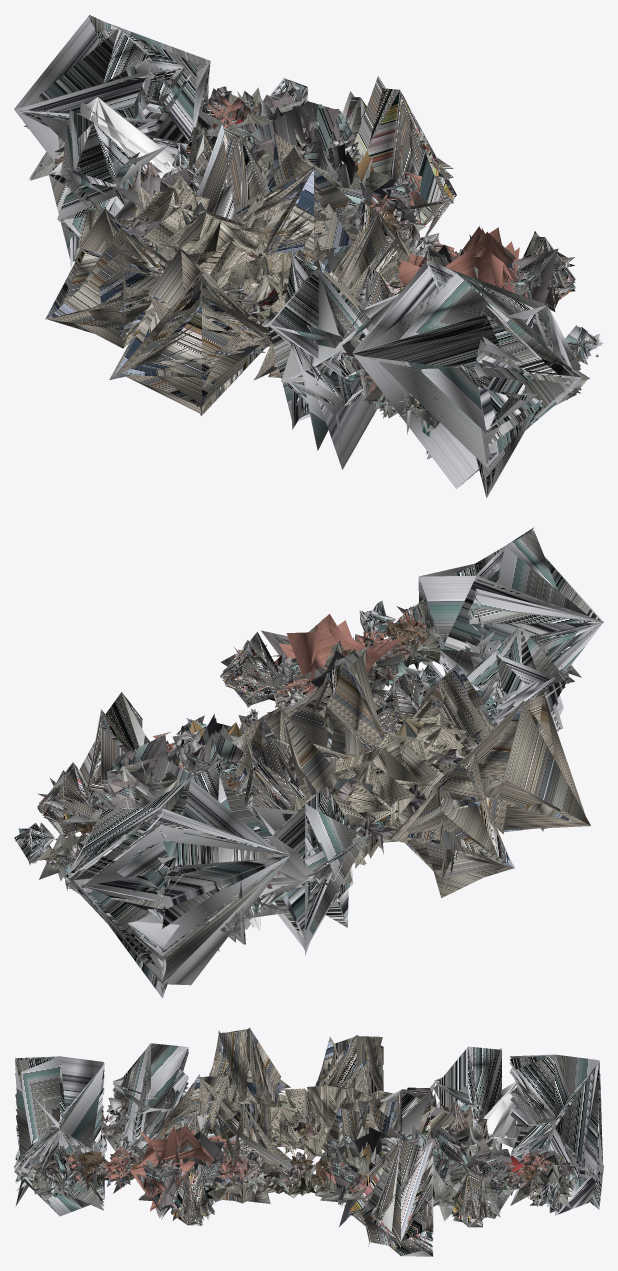
File: city-v2.glb
3 views of the same model, one above another, from view 1: azimuth 30°, elevation 25°; view 2: azimuth 150°, elevation 25°; view 3: azimuth 270°, elevation 25° (orthographic). The views are drawn at different scales.
Visible parts, largest first — view 1: City; view 2: City; view 3: City.
Part boxes in pixels (x1,y1,x2,y2): City: (14, 14, 603, 497); City: (14, 527, 603, 998); City: (14, 1027, 603, 1256).
Bounding box in the file's own units: 15.51 × 7.18 × 23.8.
100 materials, 99 textured.
